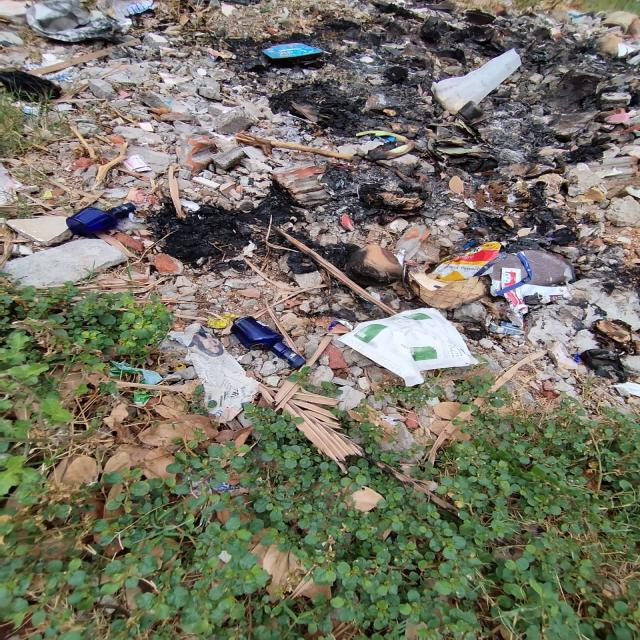dry: (165, 322, 259, 423), (430, 239, 502, 281)
